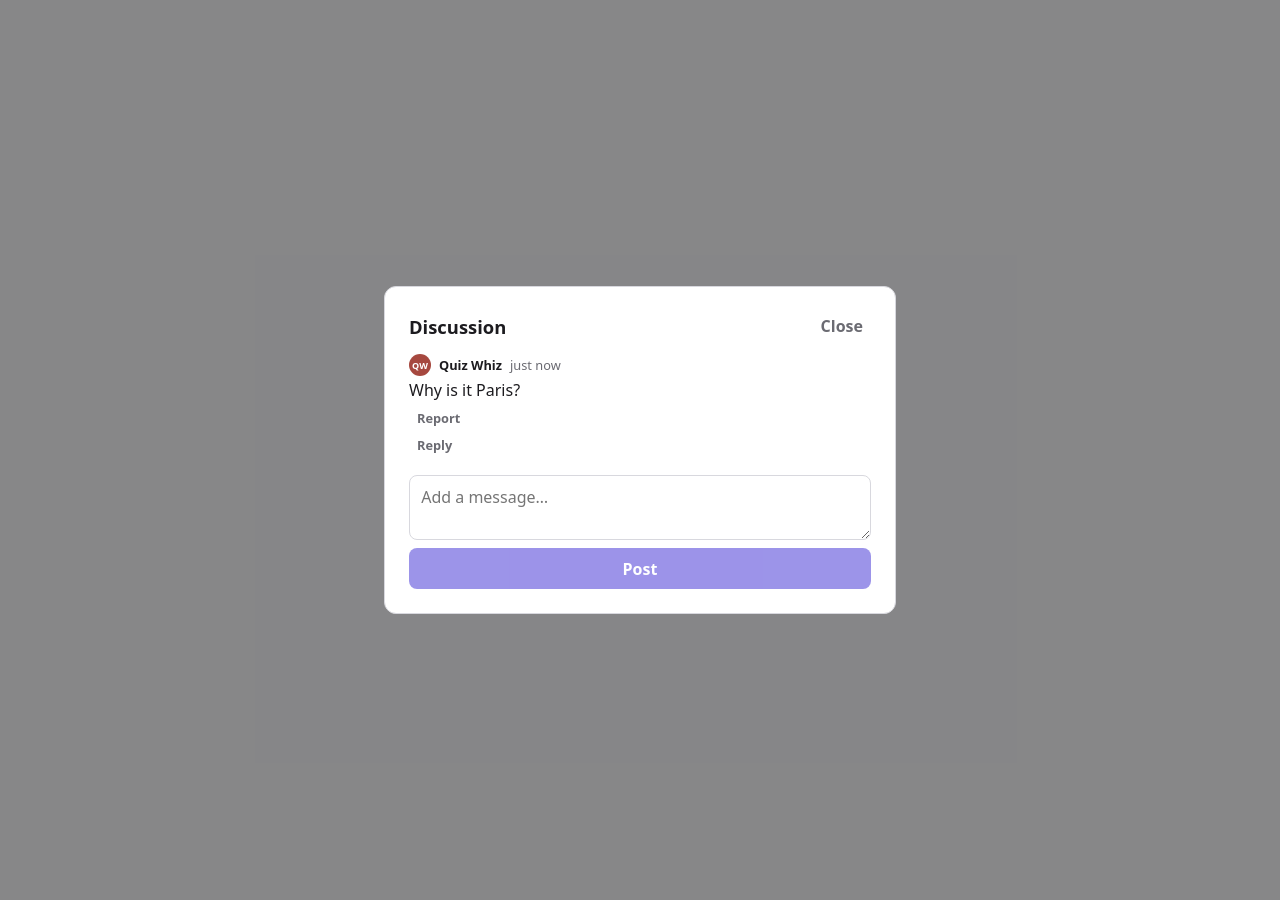
Test case: DiscussionPanel › reports a message as a signed-in user (with a reason) and shows Reported
Expected: the text "Why is it Paris?" is shown, 409,379 -> 520,401
Click the button "Report" at (439, 418), box 409,404 -> 468,431
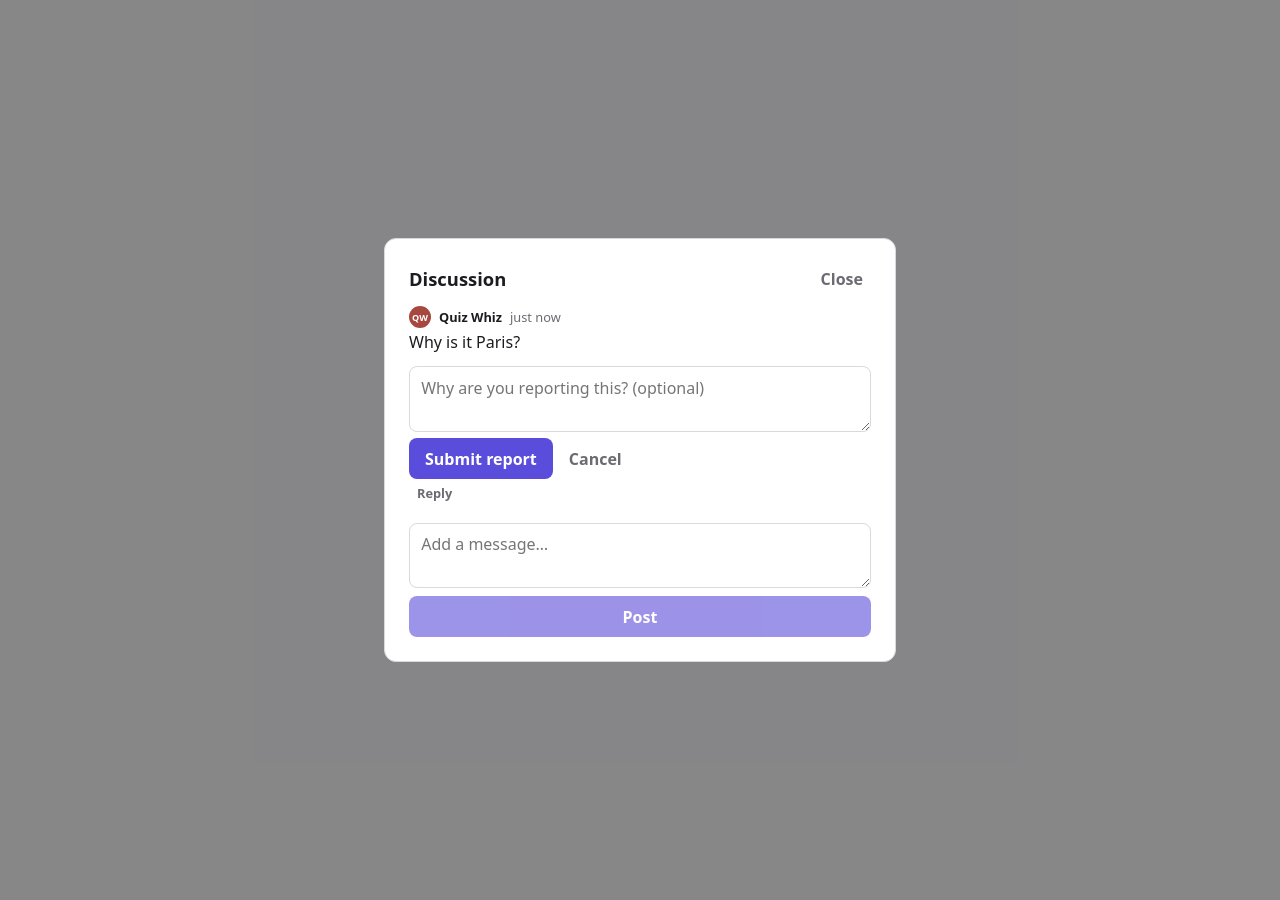
Type "spam" into the text box named "Report reason" at (640, 399), box 409,366 -> 871,432
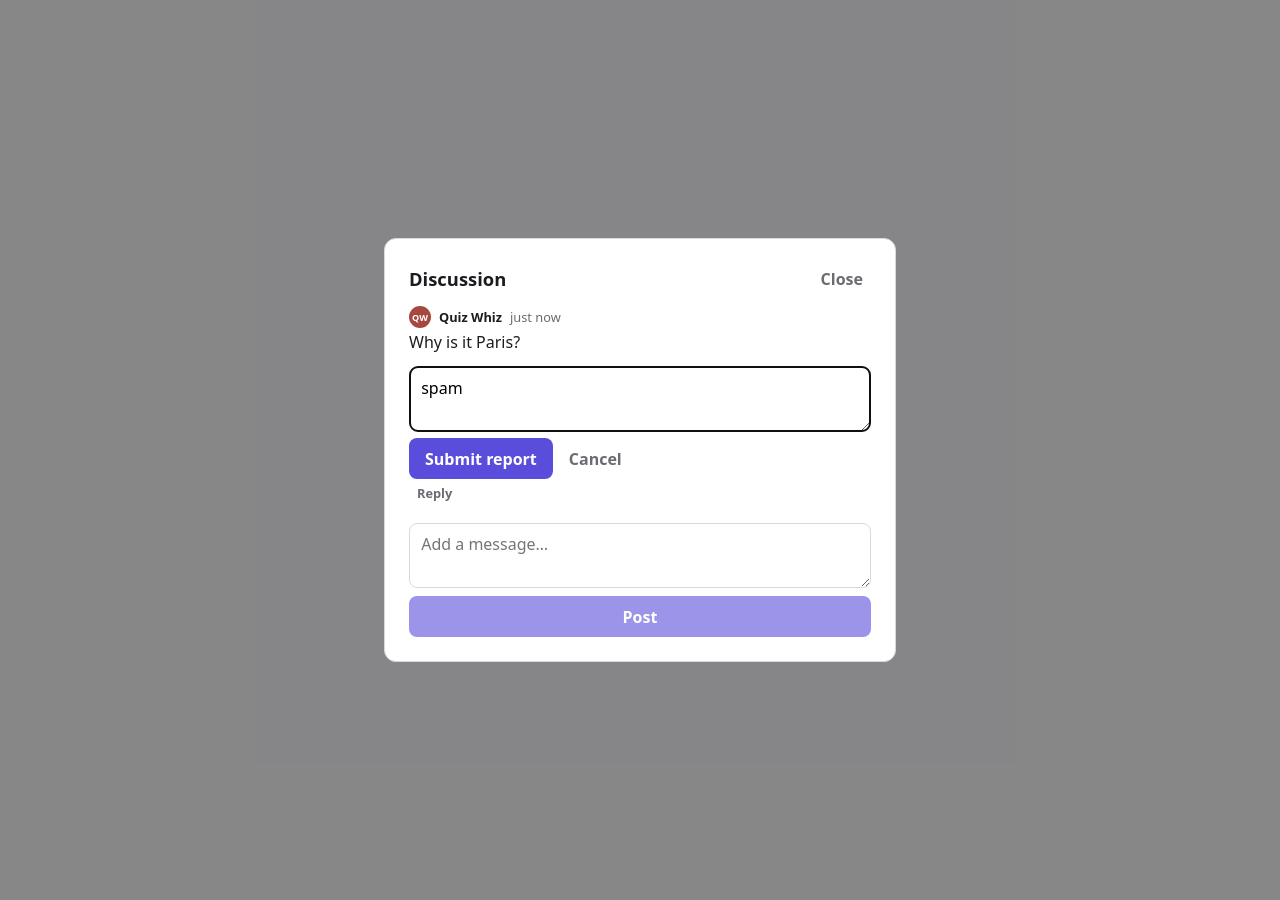
Click the button "Submit report" at (481, 459), box 409,438 -> 553,479
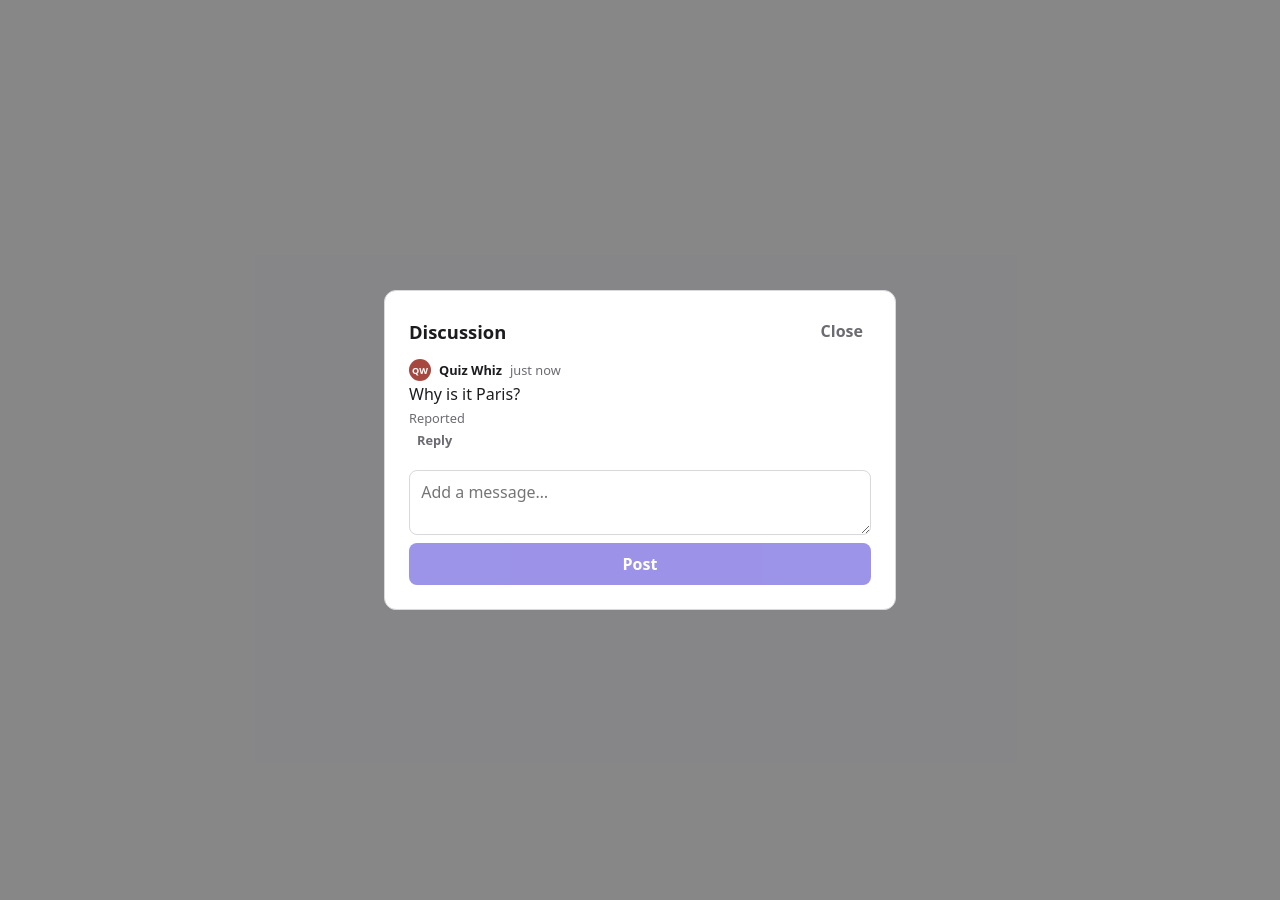
Expected: the text "Reported" is shown, 409,409 -> 465,427
